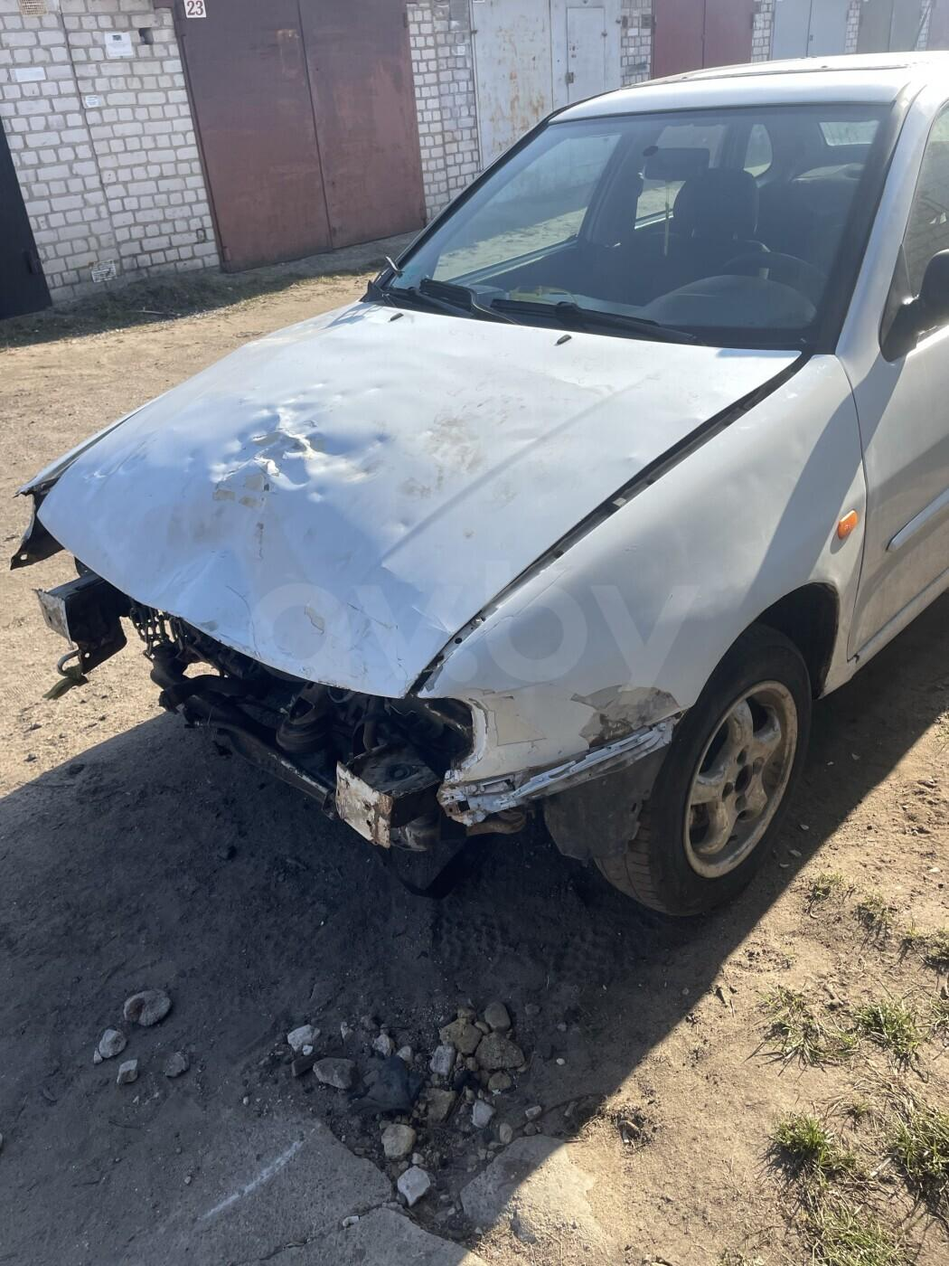Polo_1994-2002: (0, 33, 948, 984)
